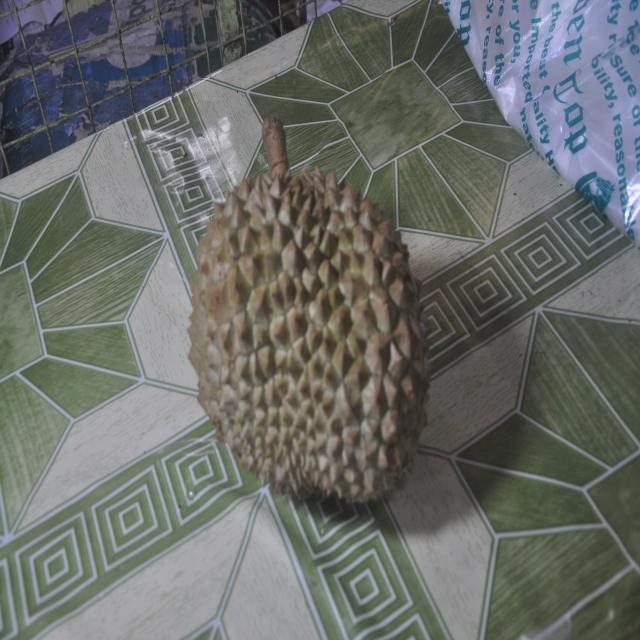mature: (189, 117, 429, 501)
